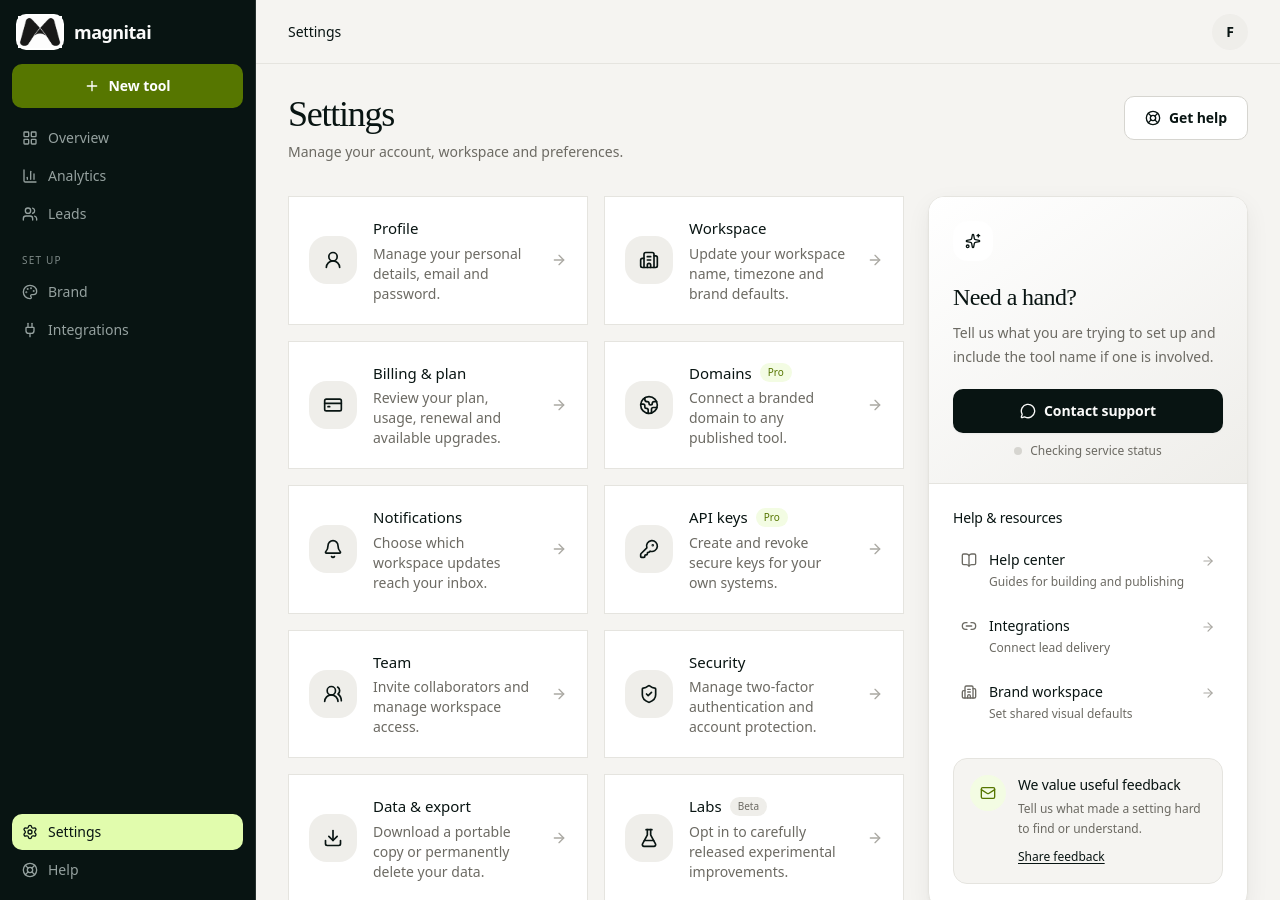
Scenario: settings route › two-factor authentication › uses the singular when one code is left
The image size is (1280, 900).
Click the link "Security" at [754, 694], box top-left (604, 630), bottom-right (904, 758)
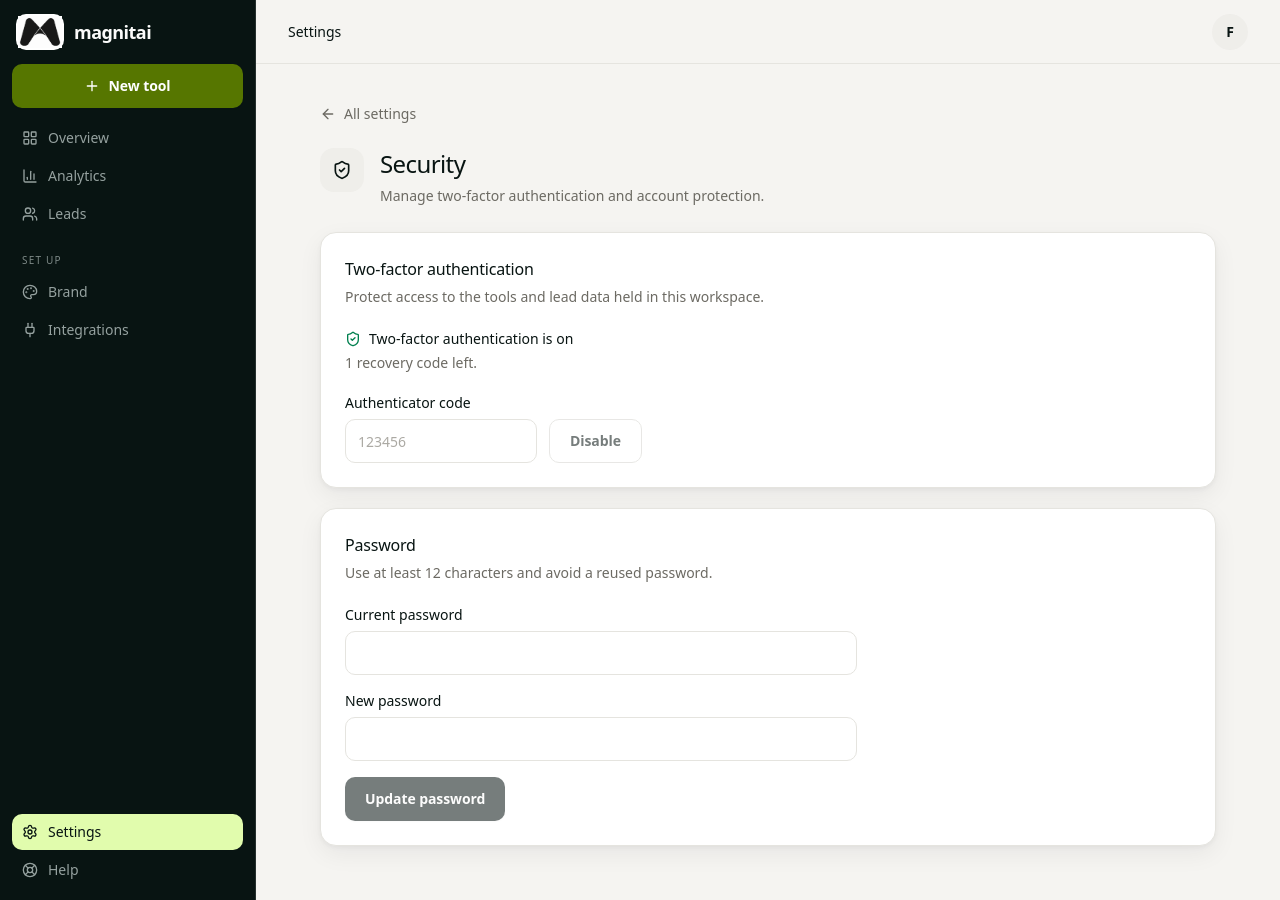
Check: the text "1 recovery code left." is shown, box top-left (345, 353), bottom-right (477, 372)
